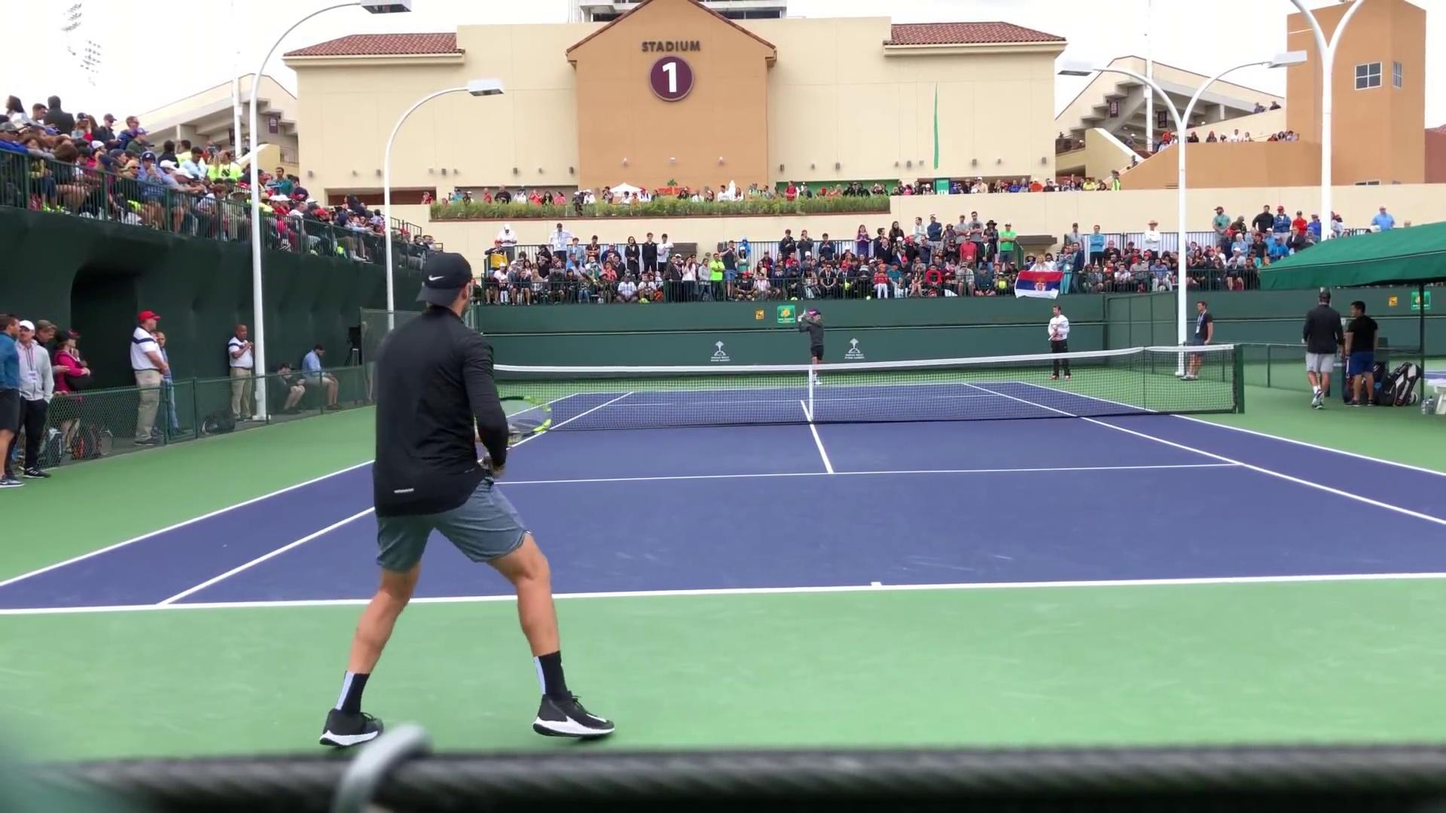ball: (866, 294, 872, 300)
